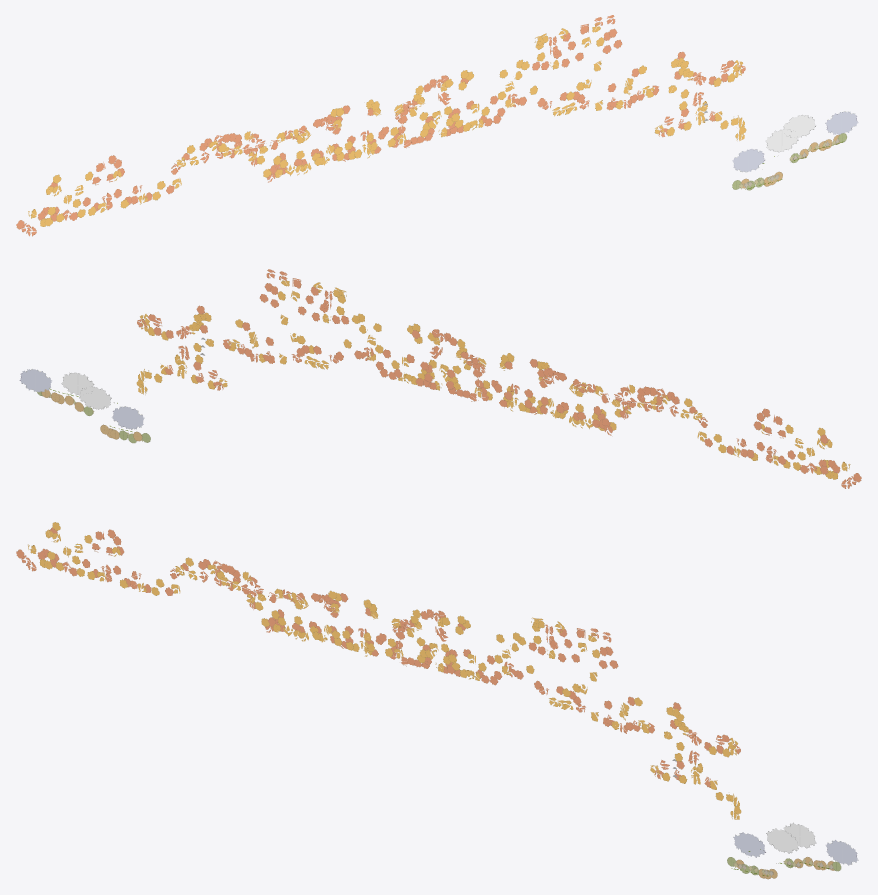
The model's file is tainai04_bg.glb.
3 views of the same model, one above another, from view 1: azimuth 30°, elevation 25°; view 2: azimuth 150°, elevation 25°; view 3: azimuth 330°, elevation 25° (orthographic).
Visible parts, largest first — view 1: tainai04_bg; view 2: tainai04_bg; view 3: tainai04_bg.
Part boxes in pixels (bbox=[...]): tainai04_bg: bbox=[16, 15, 858, 236]; tainai04_bg: bbox=[19, 269, 861, 488]; tainai04_bg: bbox=[16, 522, 858, 879].
Bounding box in the file's own units: 9151 × 2162 × 299.
Materials: 13 (12 with a texture image).
